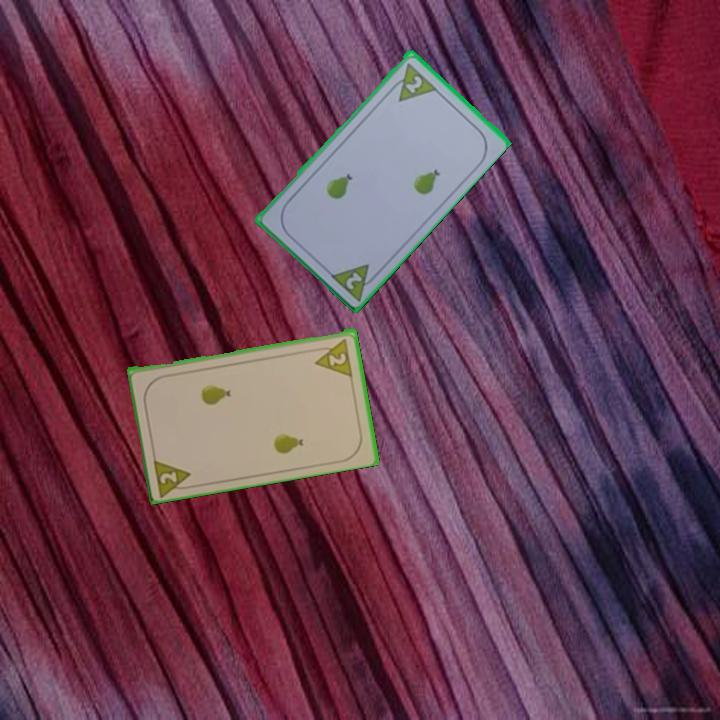2p: (326, 259, 382, 303), (150, 453, 197, 498), (310, 335, 355, 378), (402, 71, 425, 96)
